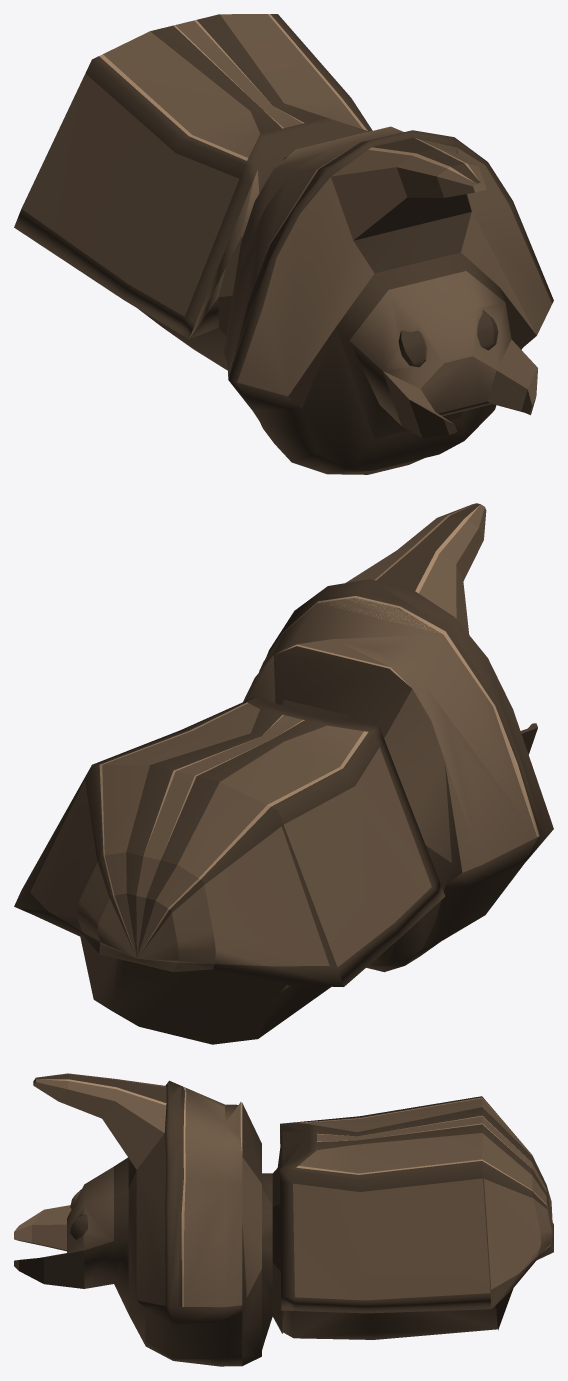
File: horn_beetle_model.fbx
3 renders of one model, top to bottom at view 1: azimuth 30°, elevation 25°; view 2: azimuth 150°, elevation 25°; view 3: azimuth 270°, elevation 25°, orthographic. The views are drawn at different scales.
Visible parts, largest first — view 1: pSphere4; view 2: pSphere4; view 3: pSphere4.
Part boxes in pixels (x1,y1,x2,y2): pSphere4: [14, 14, 553, 474]; pSphere4: [14, 503, 553, 1044]; pSphere4: [14, 1073, 553, 1366].
Size of the model in its own units: 1.44 by 1.52 by 2.7.
